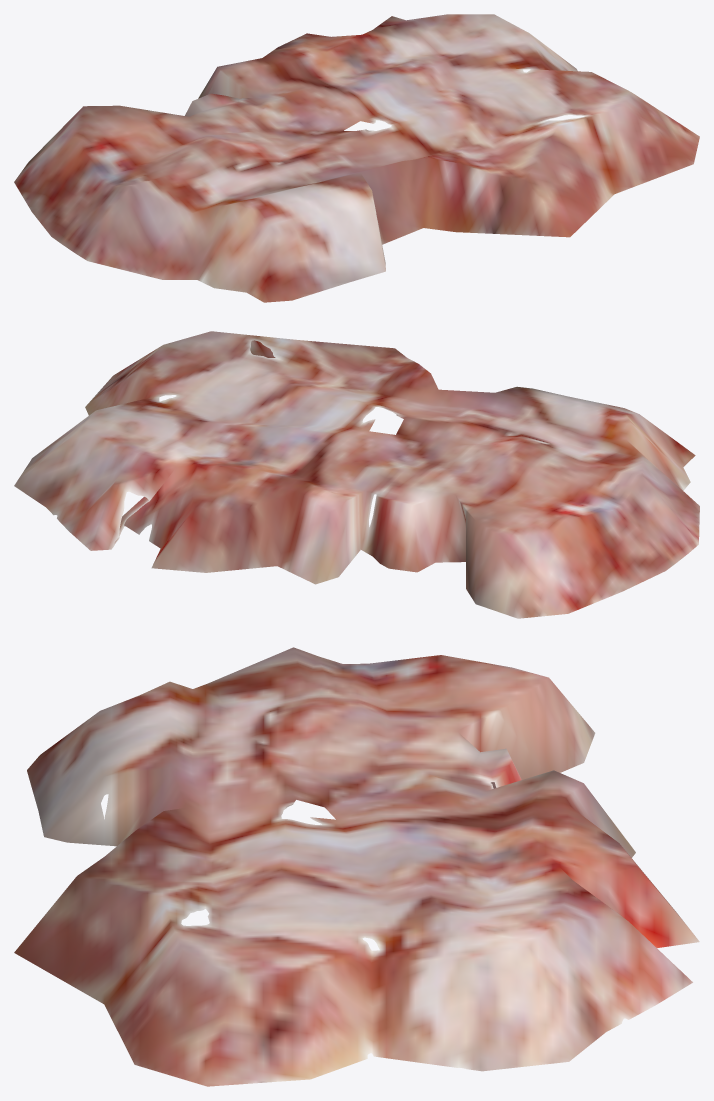
Rendered from chicken_pieces.FBX.
The picture shows the model from 3 angles, top to bottom: view 1: azimuth 30°, elevation 25°; view 2: azimuth 150°, elevation 25°; view 3: azimuth 270°, elevation 25°; orthographic projection. The views are drawn at different scales.
Visible parts, largest first — view 1: chicken_pieces; view 2: chicken_pieces; view 3: chicken_pieces.
Part boxes in pixels (x1=…): chicken_pieces: x1=14, y1=14, x2=699, y2=302; chicken_pieces: x1=14, y1=331, x2=699, y2=618; chicken_pieces: x1=14, y1=647, x2=699, y2=1086.
Bounding box in the file's own units: 39.26 × 4.3 × 28.94.
